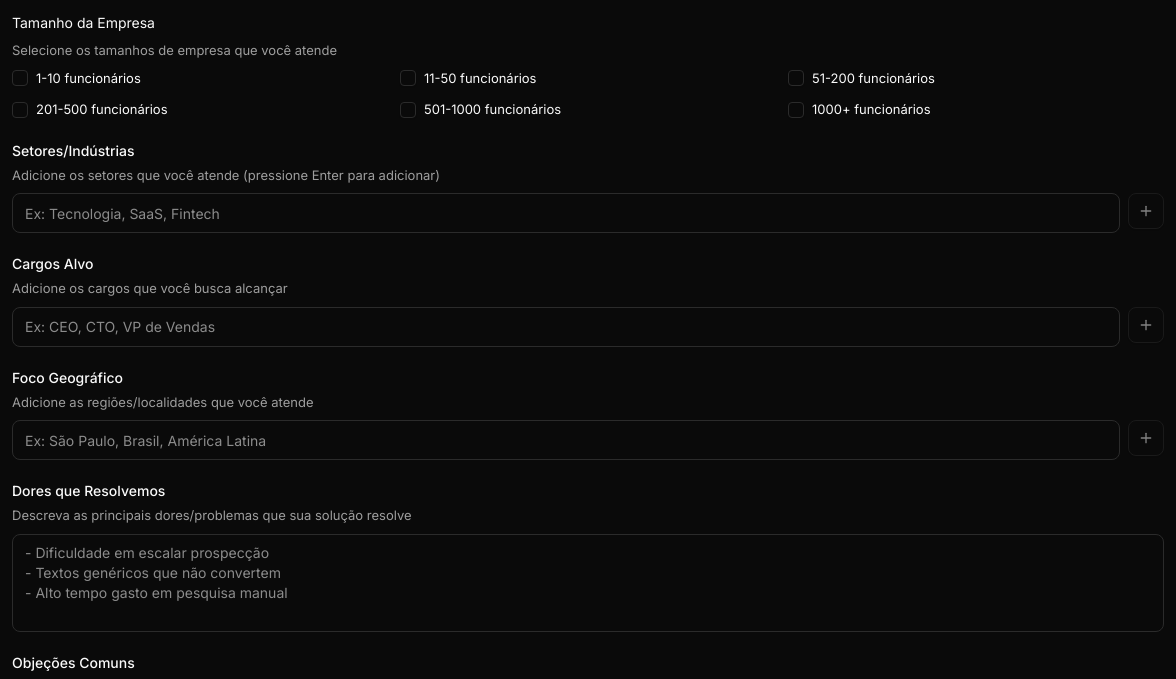
Test case: ICPDefinitionForm › Tag Input › should add industry tag on Enter key
The image size is (1176, 679).
In the field with placeholder "Ex: Tecnologia, SaaS, Fintech": (566, 213) [12,193,1120,233], type "Fintech"
Then press Enter
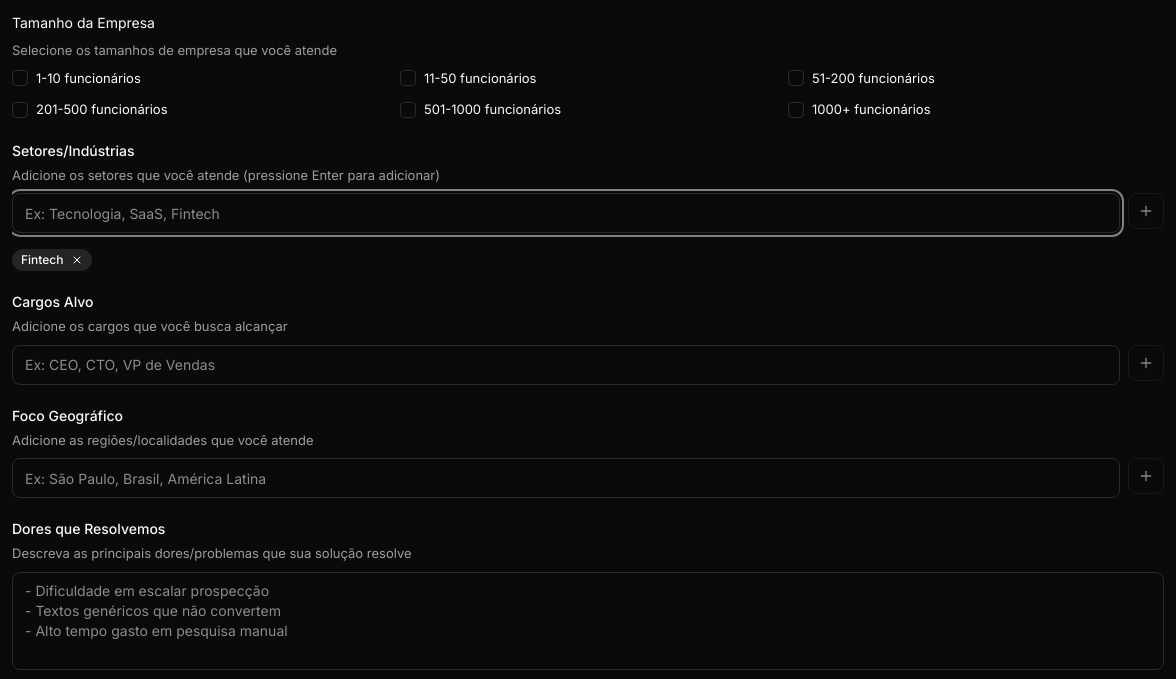
Check: the text "Fintech" is shown, box [12,249,92,271]
